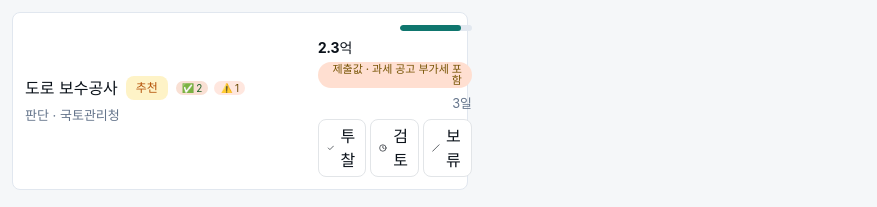
it: OpportunityRow inline actions › 투찰 버튼 클릭 시 정확한 URL/메서드/바디로 POST한다 (operator_id 포함)
Click the button with aria-label "투찰로 전환": (342, 148) [318,119,366,177]
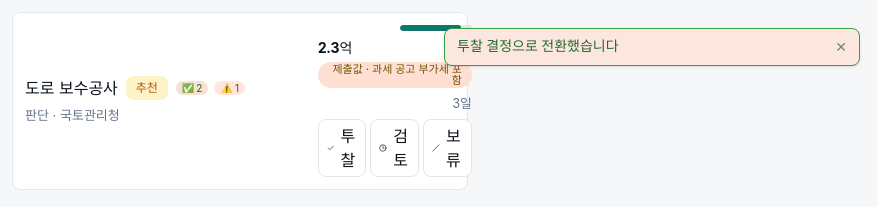
expect the text "투찰 결정으로 전환했습니다" is shown: met, box [457,37,619,54]
